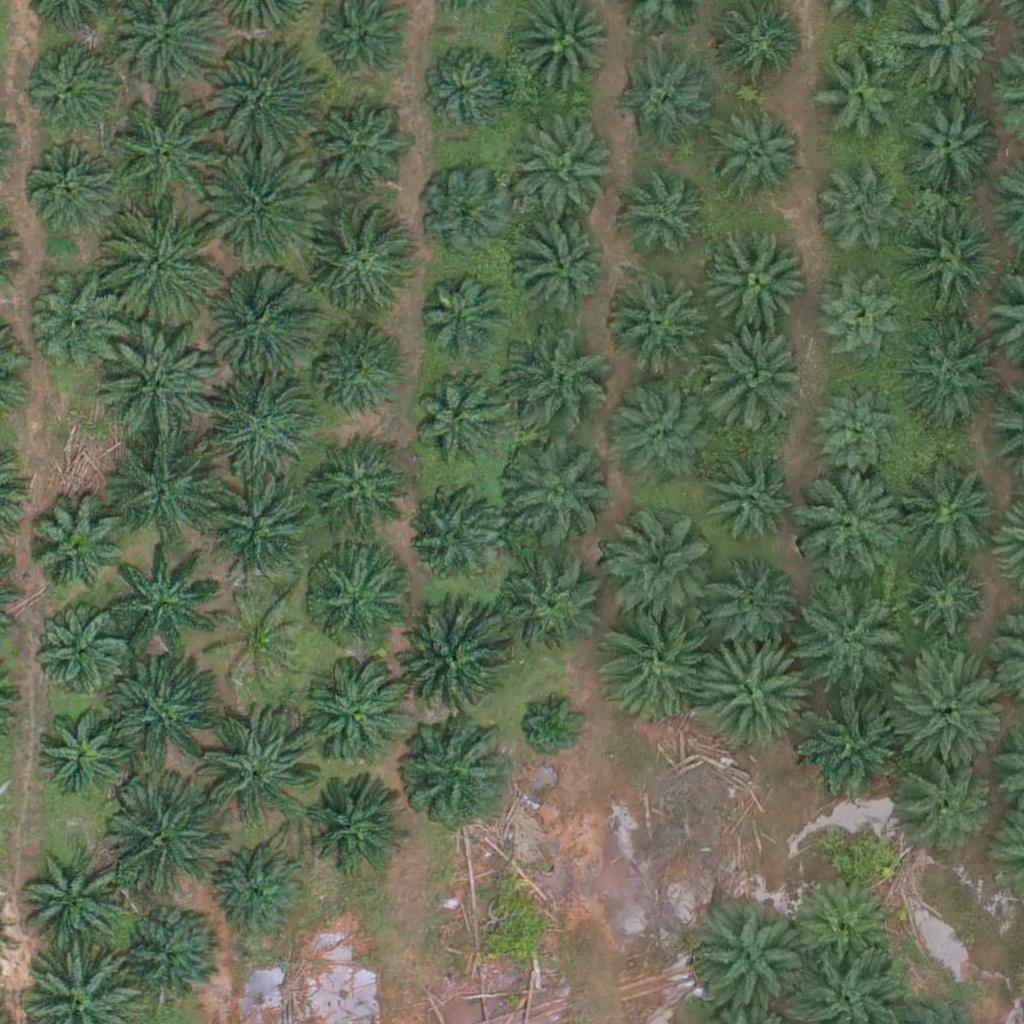Kelapa_Sawit: (108, 781, 221, 895), (787, 572, 900, 685), (800, 689, 913, 802), (694, 636, 807, 749), (599, 377, 712, 490), (599, 496, 712, 609), (591, 610, 704, 723), (694, 905, 807, 1018), (496, 437, 609, 550), (395, 606, 508, 719), (109, 655, 222, 768), (99, 329, 212, 442), (208, 150, 321, 263), (208, 39, 321, 152), (107, 210, 220, 323), (790, 470, 902, 584), (600, 270, 712, 384), (303, 656, 415, 770), (204, 367, 316, 481), (205, 480, 317, 594), (894, 202, 1006, 316), (509, 111, 621, 225), (212, 264, 324, 378), (895, 320, 1007, 433), (892, 460, 1004, 573), (892, 648, 1004, 761), (703, 323, 815, 436), (503, 320, 615, 433), (397, 722, 509, 835), (201, 711, 313, 824), (106, 542, 218, 655), (110, 427, 222, 540), (22, 835, 134, 948), (698, 224, 810, 337), (306, 215, 418, 328), (112, 95, 224, 208), (888, 758, 988, 859), (701, 555, 801, 656), (705, 442, 805, 543), (794, 875, 894, 976), (505, 556, 605, 657), (402, 488, 502, 589), (211, 584, 311, 685), (118, 902, 218, 1003), (28, 602, 128, 703), (32, 698, 132, 799), (893, 94, 993, 195), (703, 102, 803, 203), (615, 171, 715, 272), (415, 163, 515, 264), (307, 103, 407, 204), (21, 29, 121, 130), (304, 775, 404, 875), (308, 446, 408, 546), (301, 547, 401, 647), (207, 848, 307, 948), (25, 495, 125, 595), (613, 61, 713, 161), (511, 218, 611, 318), (416, 42, 516, 142), (28, 272, 128, 372), (24, 131, 124, 231), (896, 556, 984, 644), (813, 386, 901, 474), (413, 375, 501, 463), (310, 329, 398, 417), (816, 51, 904, 139), (821, 171, 909, 259), (416, 272, 504, 360), (816, 276, 903, 364), (515, 685, 590, 760)
